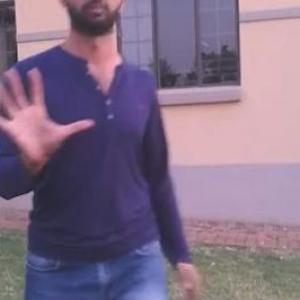follow_hand: (0, 63, 102, 183)
